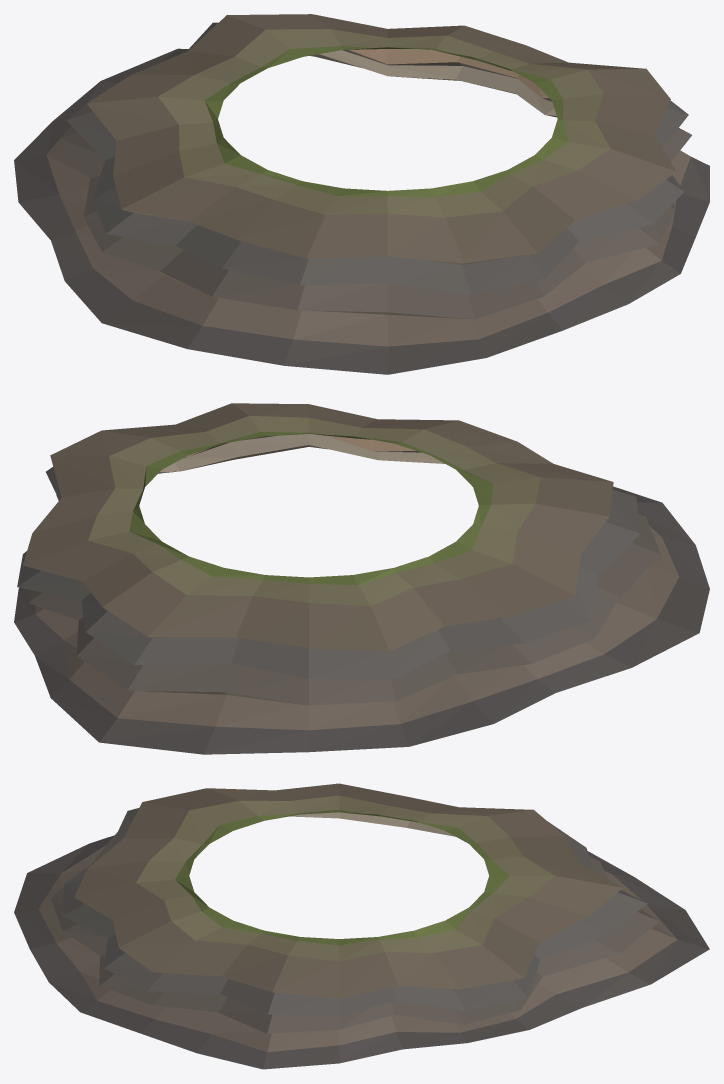
Rendered from headland.glb.
3 views of the same model, one above another, from view 1: azimuth 30°, elevation 25°; view 2: azimuth 150°, elevation 25°; view 3: azimuth 270°, elevation 25° (orthographic). The views are drawn at different scales.
Visible parts, largest first — view 1: headland; view 2: headland; view 3: headland.
Part boxes in pixels (x1,y1,x2,y2): headland: (14,14,709,374); headland: (14,403,709,754); headland: (14,783,709,1069).
Bounding box in the file's own units: 102 × 13.45 × 113.
